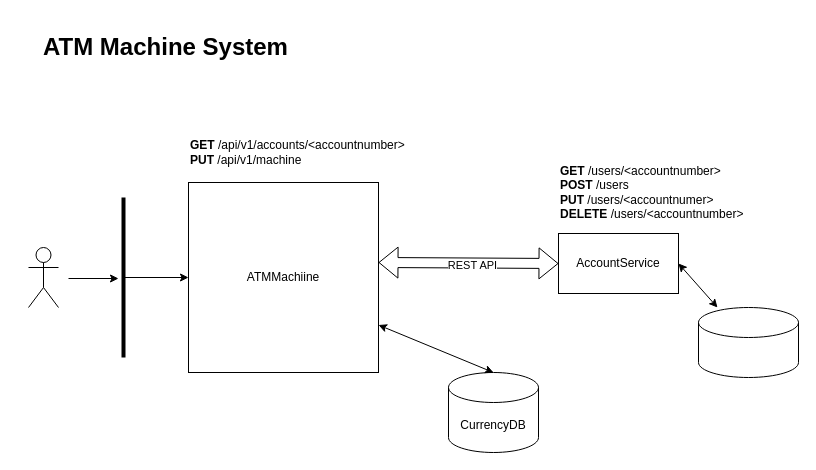
This 816x470 diagram has some shape labels left out. Here are the shapes that lost their labels. From the top down, the centre of each, then its label:
At pixel 43 277: "ATM User".
At pixel 748 342: "AccountsDB".
